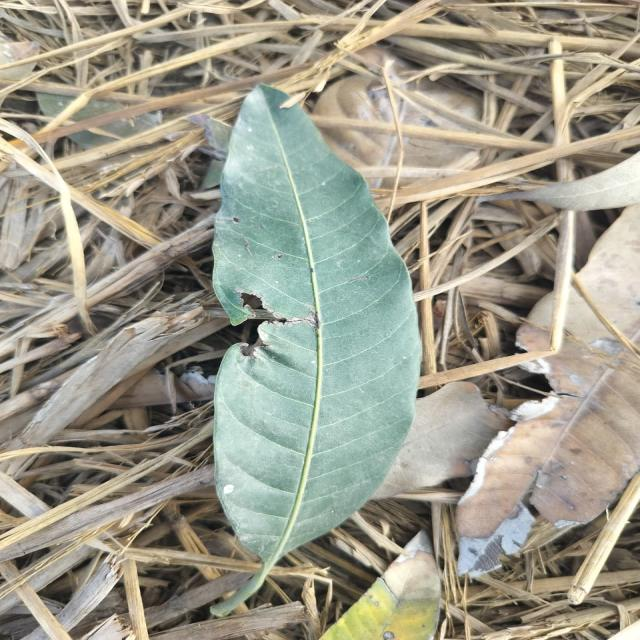Anthracnose: (230, 217, 243, 225), (275, 254, 284, 260)
Bacterial Cancer: (223, 283, 309, 370)
